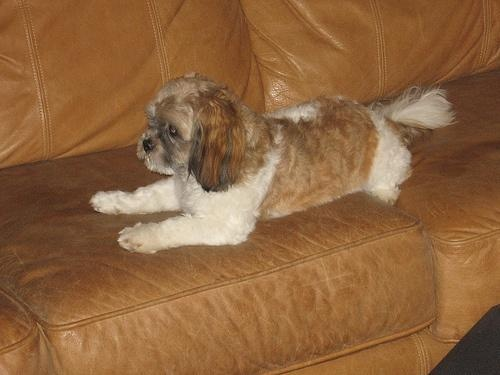dog: (94, 71, 457, 255)
sofa: (3, 2, 499, 374)
